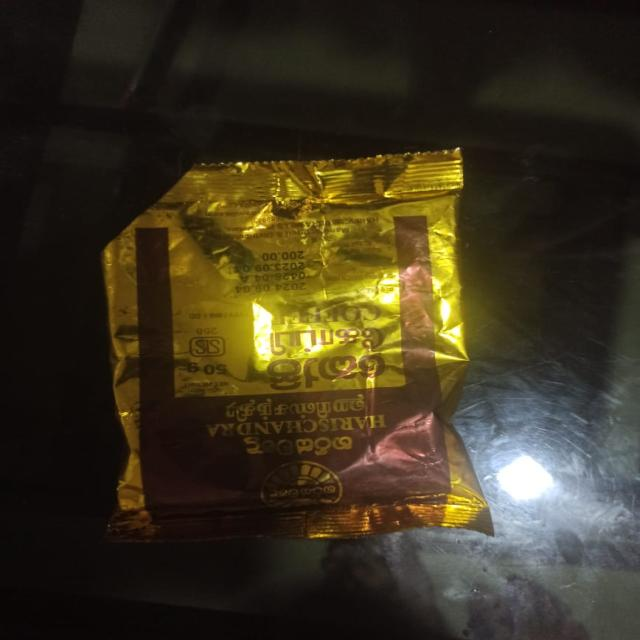Harischandra Coffee: (66, 149, 463, 540)
